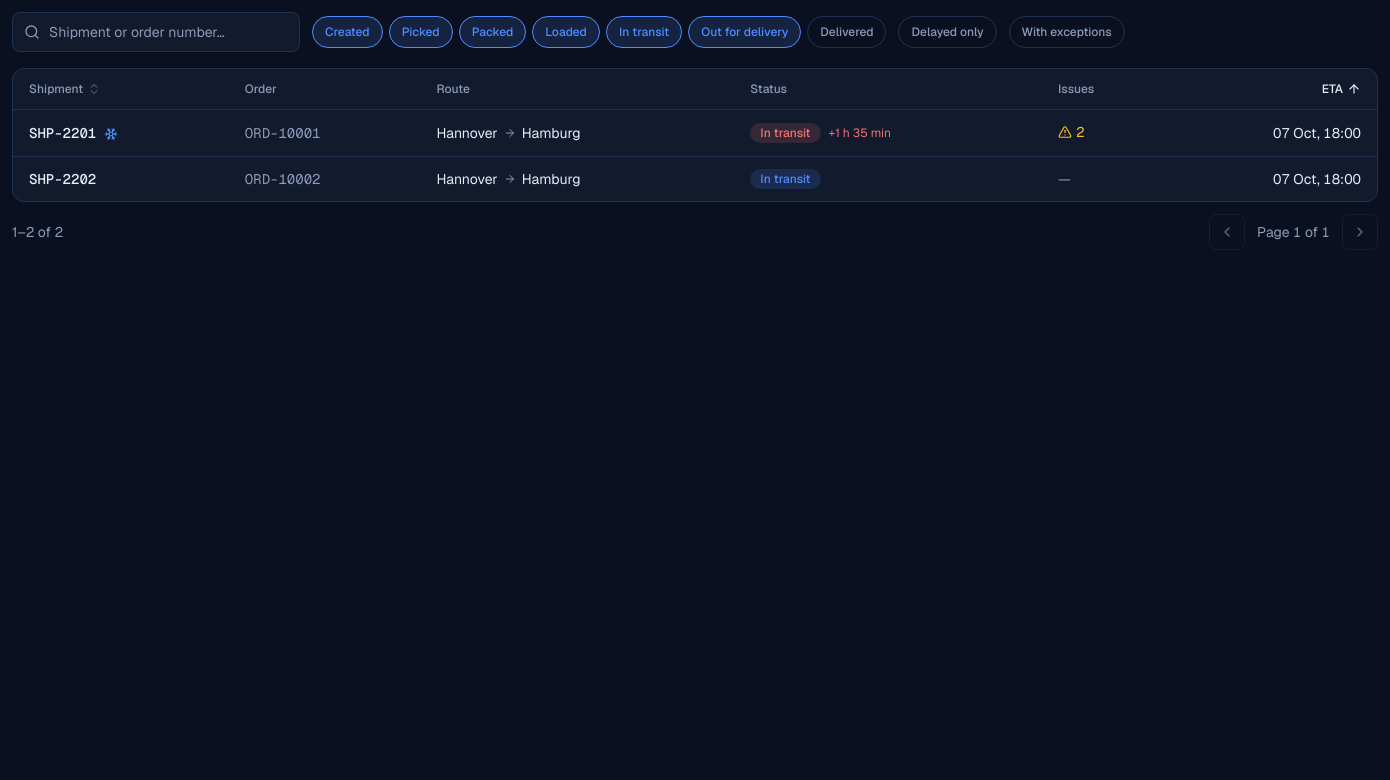
Test: Shipments › opens the tracking history and the open exceptions of a shipment
What coordinates should you click on to do the following:
click the button "SHP-2201"
I would click on:
 (74, 133)
Its box is [29, 123, 118, 143].
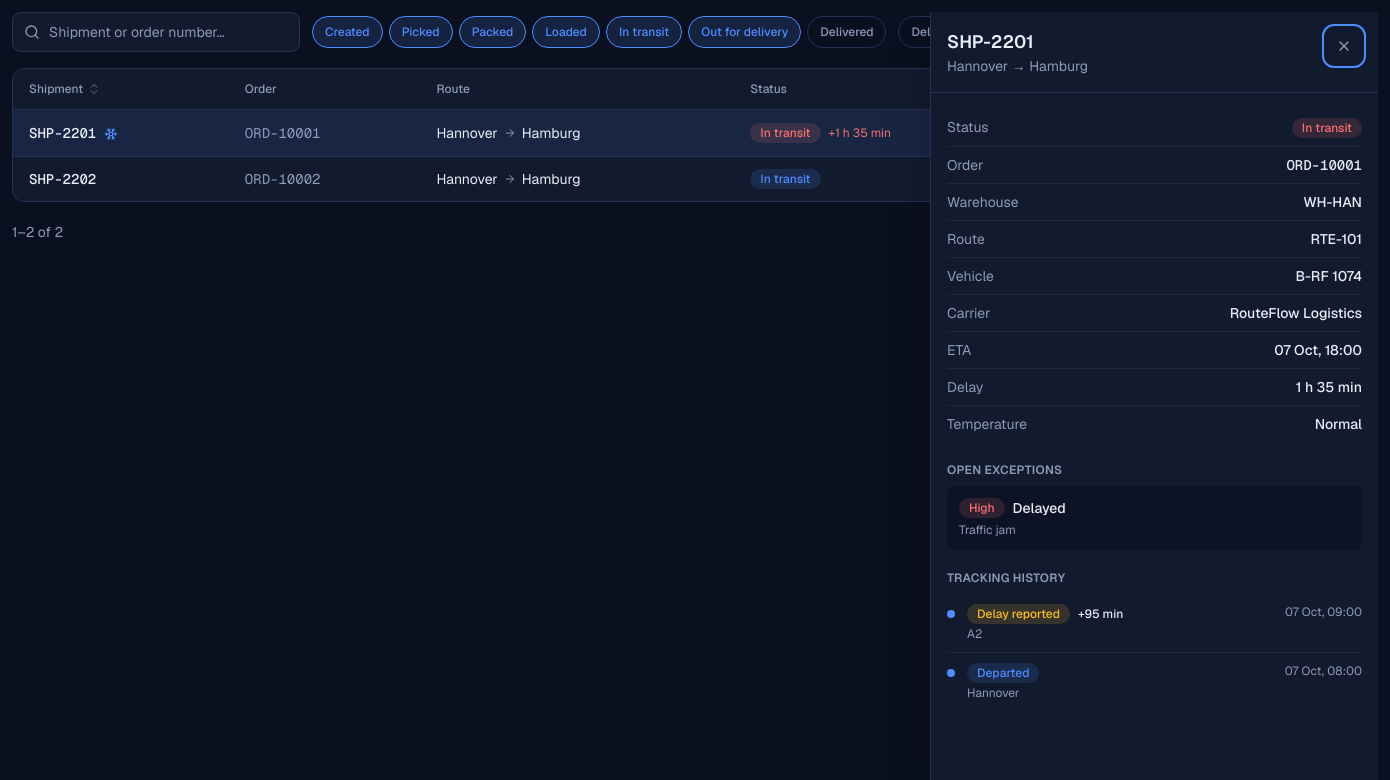
Result: the text "Traffic jam" is shown at [959, 522, 1016, 538]
Result: the text "Delay reported" is shown at [967, 604, 1070, 624]
Result: the text "+95 min" is shown at [1078, 606, 1123, 622]
